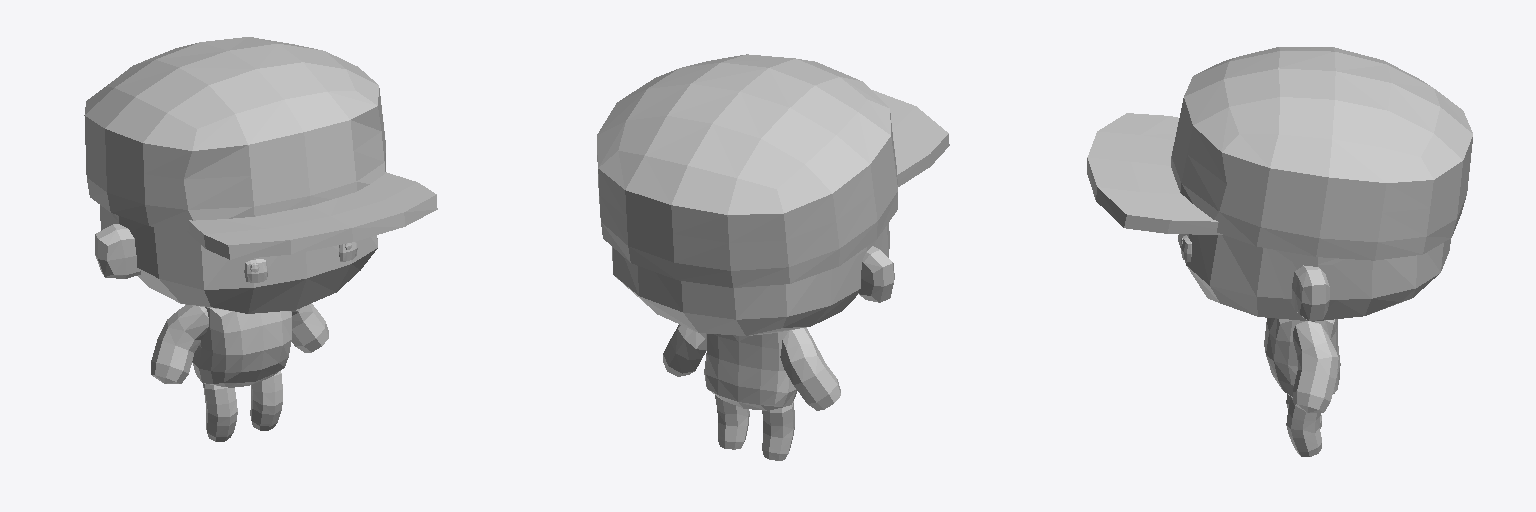
The model's file is idle_0031.obj.
3 renders of one model, left to right at view 1: azimuth 30°, elevation 25°; view 2: azimuth 150°, elevation 25°; view 3: azimuth 270°, elevation 25°, orthographic.
Parts seen in each view (by area): view 1: Object_41, Object_42, Object_36, Object_44, Object_38; view 2: Object_41, Object_44, Object_36, Object_42; view 3: Object_41, Object_36, Object_42, Object_44.
Boxes of the visible parts, box(x1,y1,x2,y2) form: Object_41: box(84, 37, 385, 231); Object_42: box(184, 106, 437, 259); Object_36: box(95, 205, 377, 313); Object_44: box(151, 303, 328, 441); Object_38: box(244, 241, 357, 282); Object_41: box(597, 54, 897, 287); Object_44: box(663, 324, 840, 460); Object_36: box(612, 223, 894, 335); Object_42: box(872, 90, 949, 186); Object_41: box(1184, 47, 1472, 260); Object_36: box(1178, 234, 1450, 321); Object_42: box(1087, 98, 1226, 234); Object_44: box(1264, 318, 1340, 456).
Bounding box in the file's own units: 0.9691 × 1.22 × 1.14.